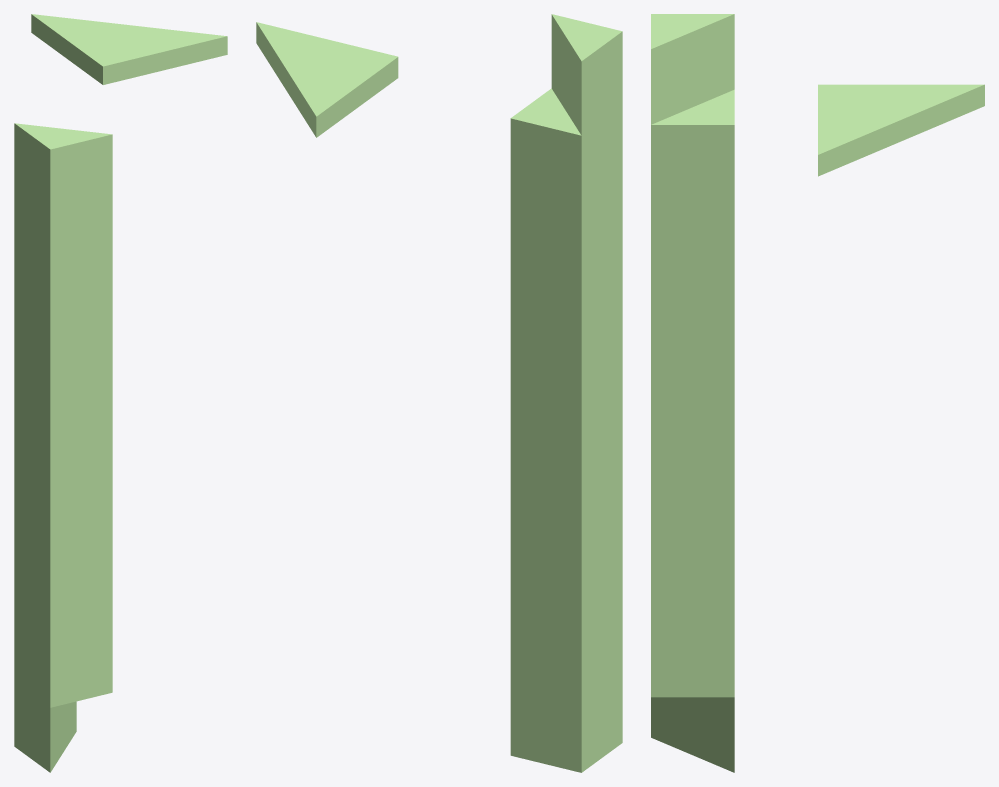
Rendered from ModuleAssembly_layer1_6.obj.
The picture shows the model from 3 angles, left to right: view 1: azimuth 30°, elevation 25°; view 2: azimuth 150°, elevation 25°; view 3: azimuth 270°, elevation 25°; orthographic projection. The views are drawn at different scales.
Parts seen in each view (by area): view 1: object_2, object_1, object_3, object_4; view 2: object_2, object_1, object_4, object_3; view 3: object_2, object_1, object_3, object_4.
Boxes of the visible parts, left/top/right/bottom form: object_2: left=14, top=188, right=112, bottom=707; object_1: left=31, top=14, right=227, bottom=84; object_3: left=14, top=123, right=112, bottom=214; object_4: left=14, top=681, right=76, bottom=772; object_2: left=510, top=88, right=622, bottom=698; object_1: left=256, top=22, right=398, bottom=137; object_4: left=510, top=669, right=622, bottom=772; object_3: left=551, top=14, right=622, bottom=135; object_2: left=651, top=89, right=734, bottom=697; object_1: left=818, top=84, right=984, bottom=176; object_3: left=651, top=14, right=734, bottom=124; object_4: left=651, top=697, right=734, bottom=772.
Size of the model in its own units: 0.14 by 0.335 by 0.14.
